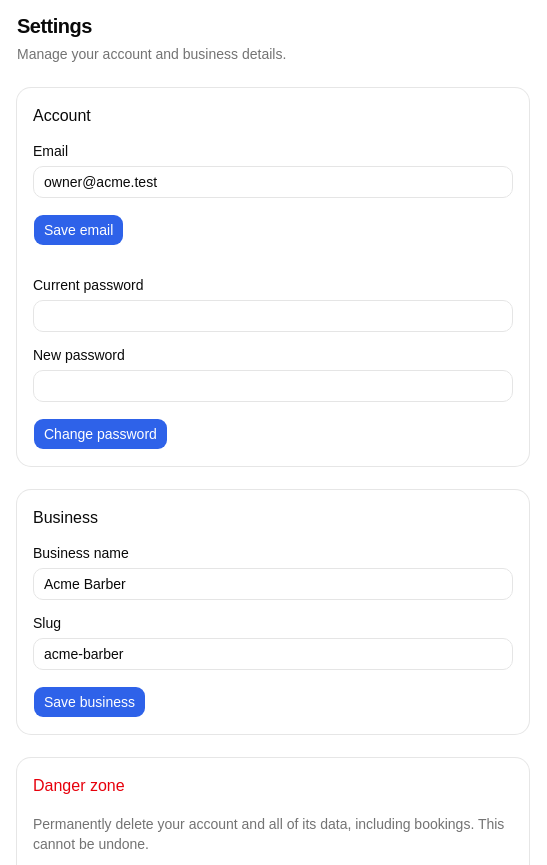
it: Settings page › shows an error when the email is already in use
Replace the text in the field labelled "Email" with "taken@acme.test": coordinates (273, 182) [33, 166, 513, 198]
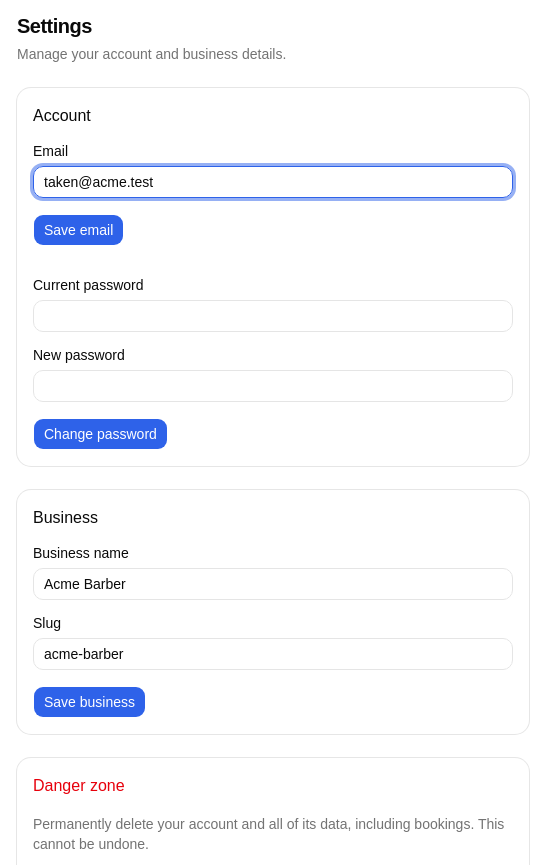
Click the button "Save email": coordinates (79, 230) [33, 214, 124, 246]
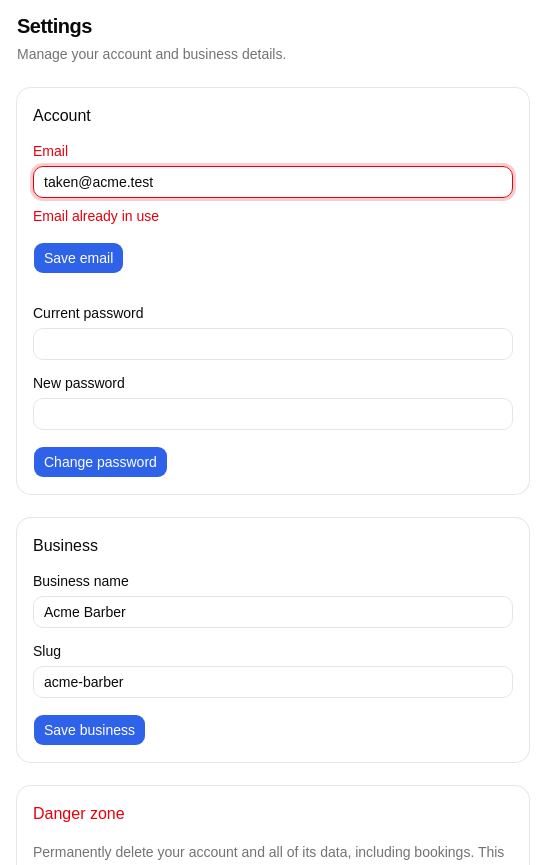
Result: the text "Email already in use" is shown at [33, 208, 159, 224]
